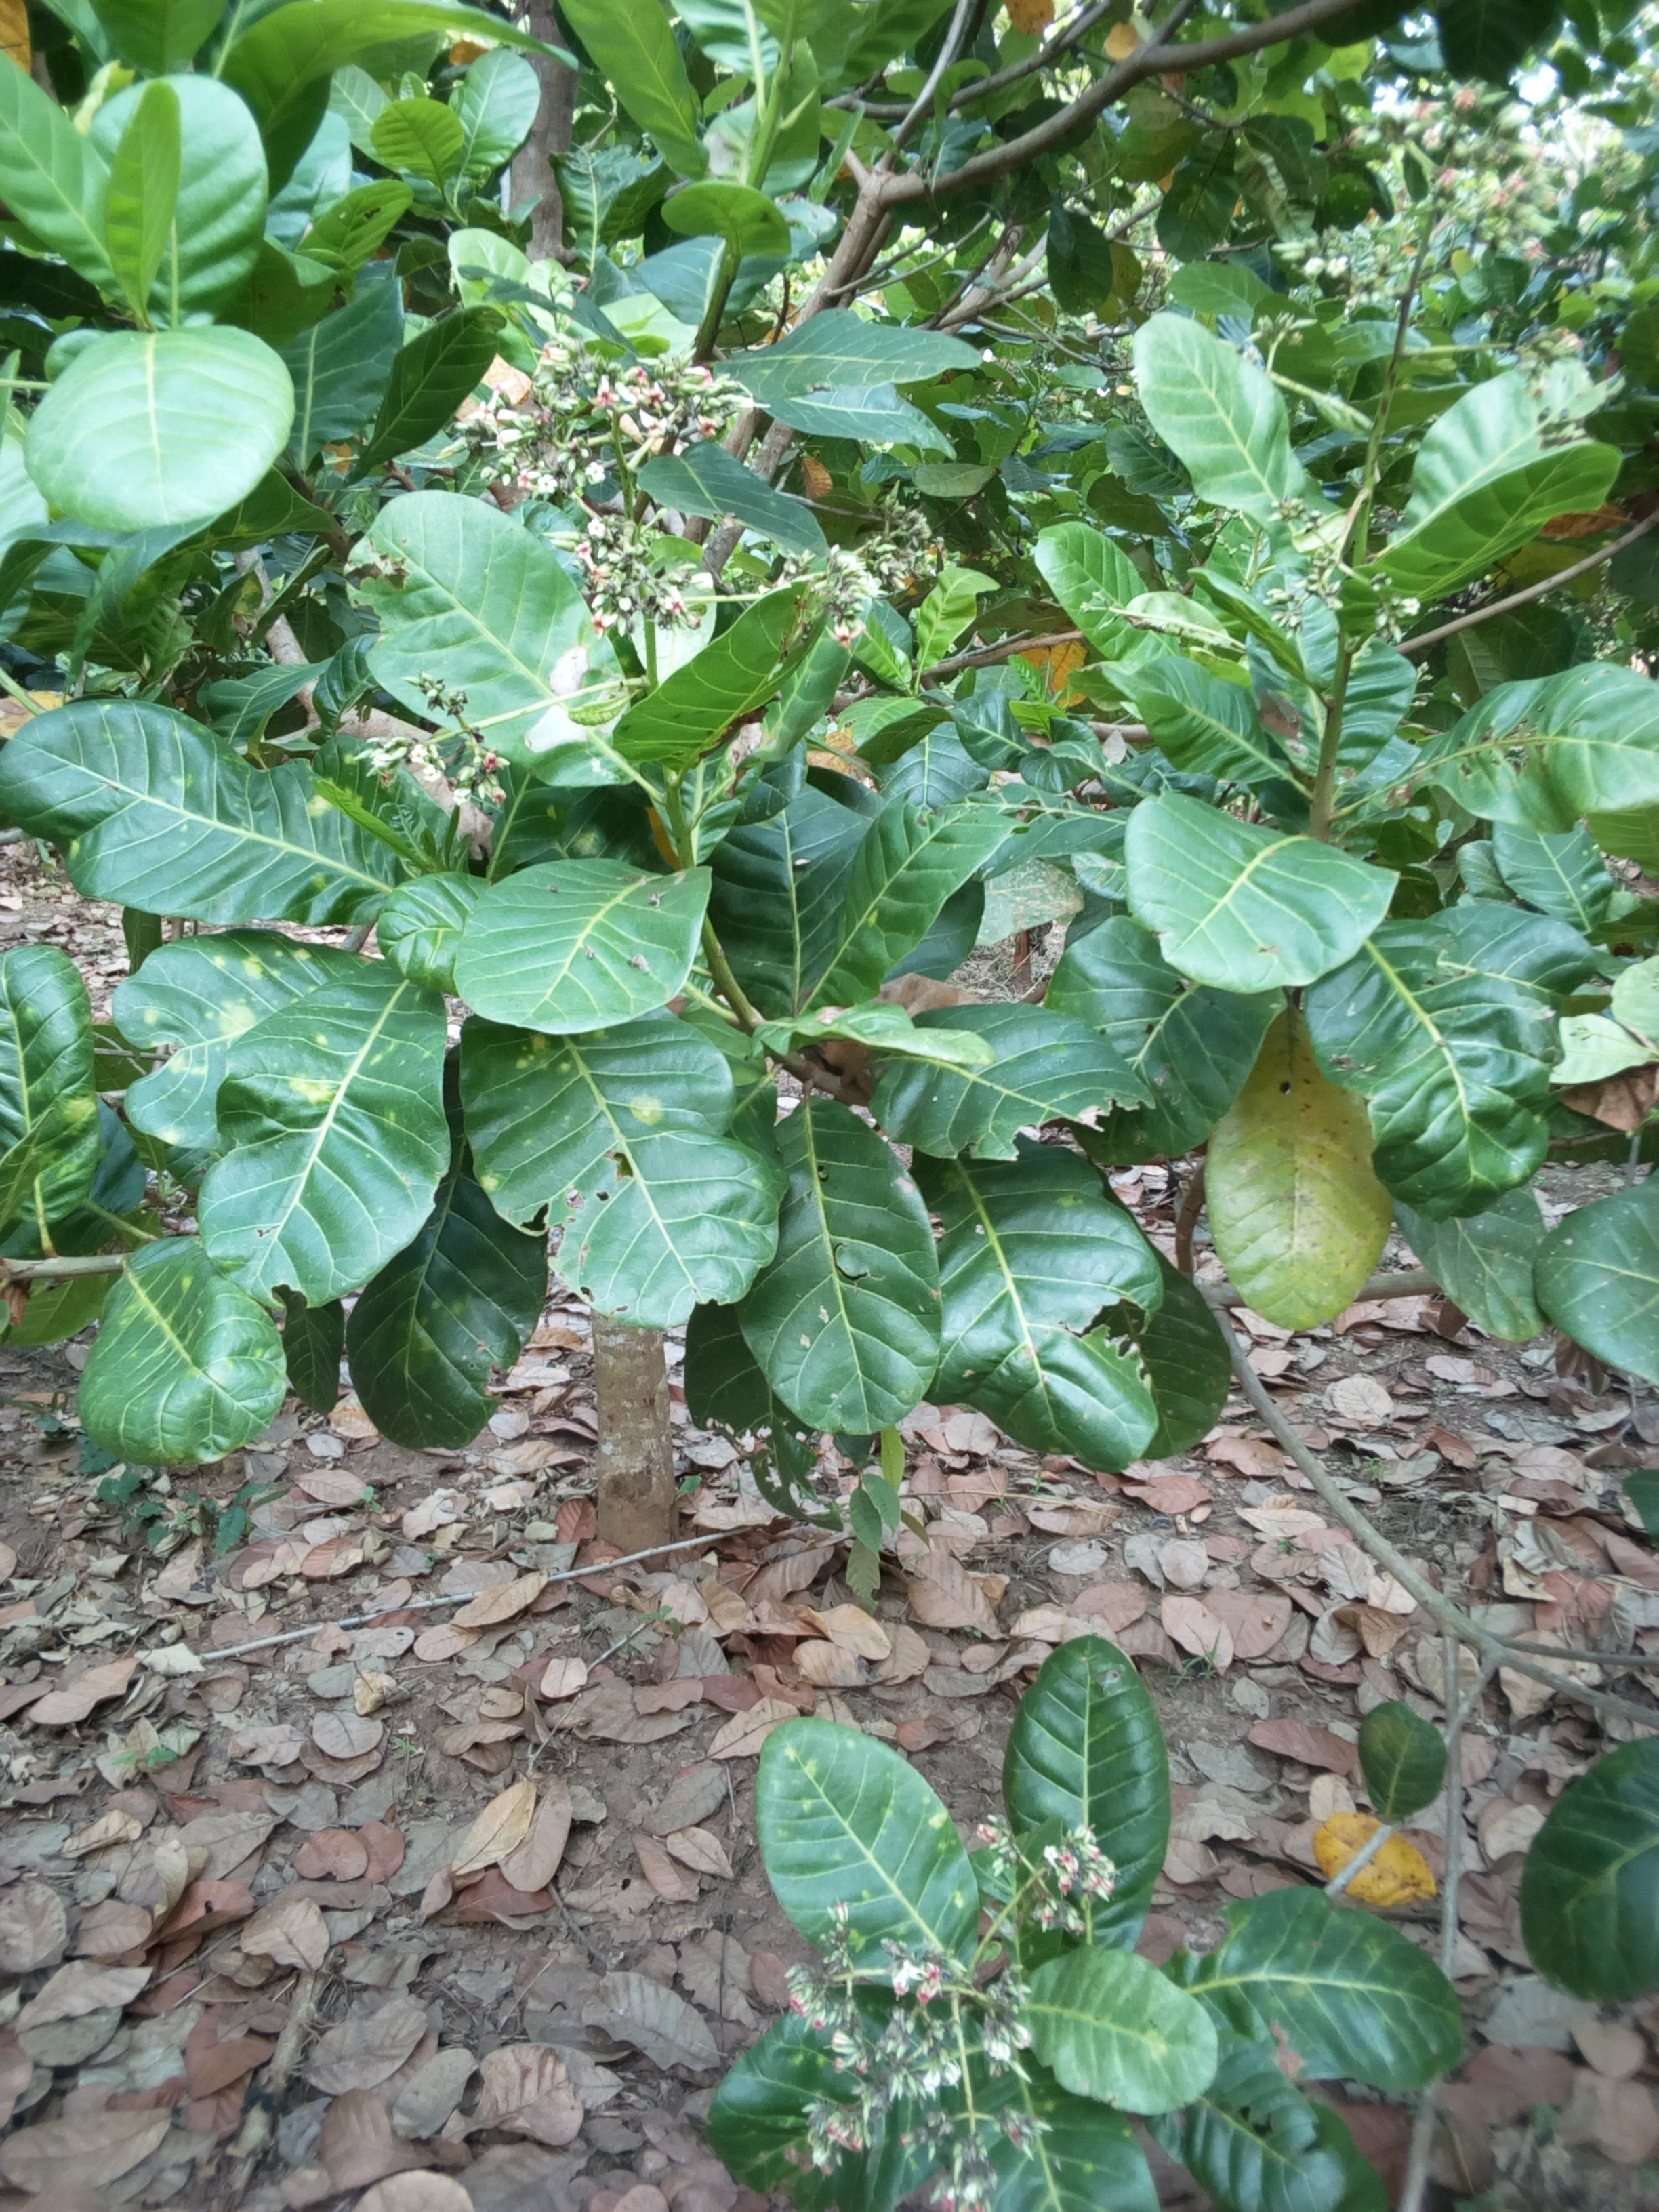Carence minérale: (131, 951, 484, 1324), (450, 1021, 789, 1325), (744, 1106, 962, 1447), (430, 845, 793, 1045), (744, 1709, 988, 1998), (0, 944, 98, 1228)
